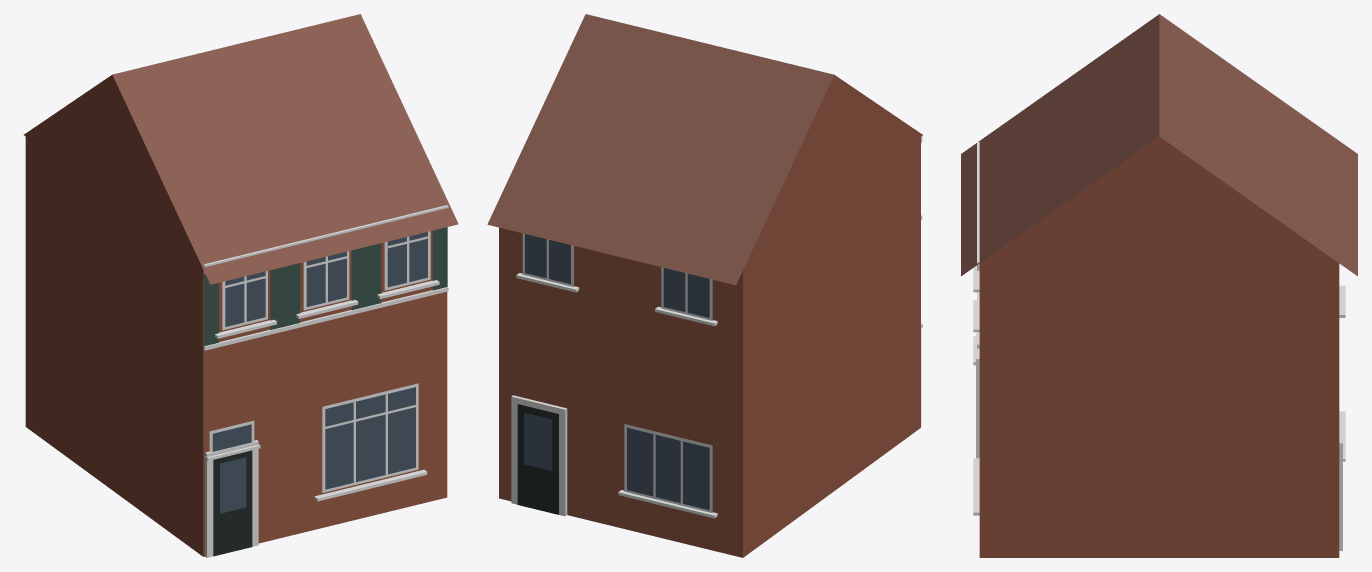
File: nn-board__green__2__gable__long__solid.glb
3 views of the same model, side by side, from view 1: azimuth 30°, elevation 25°; view 2: azimuth 150°, elevation 25°; view 3: azimuth 270°, elevation 25° (orthographic).
Parts seen in each view (by area): view 1: nn-board__green__2__gable__long__solid; view 2: nn-board__green__2__gable__long__solid; view 3: nn-board__green__2__gable__long__solid.
Boxes of the visible parts, <box> form: nn-board__green__2__gable__long__solid: <box>24,14,458,557</box>; nn-board__green__2__gable__long__solid: <box>487,14,922,557</box>; nn-board__green__2__gable__long__solid: <box>961,14,1357,557</box>.
Size of the model in its own units: 5.42 by 8.71 by 7.42.
